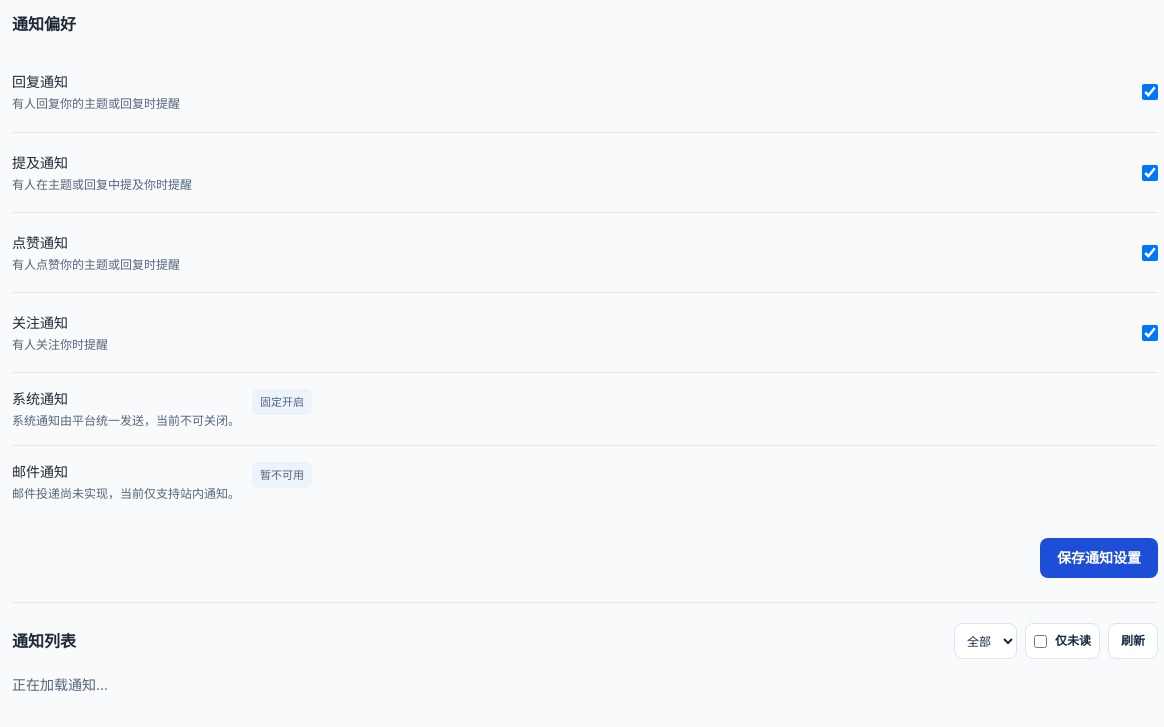
SettingsNotificationsTab › keeps the newest notification result when an older response arrives later
Click the button "刷新".
click(1133, 641)  # box [1108,623,1158,659]
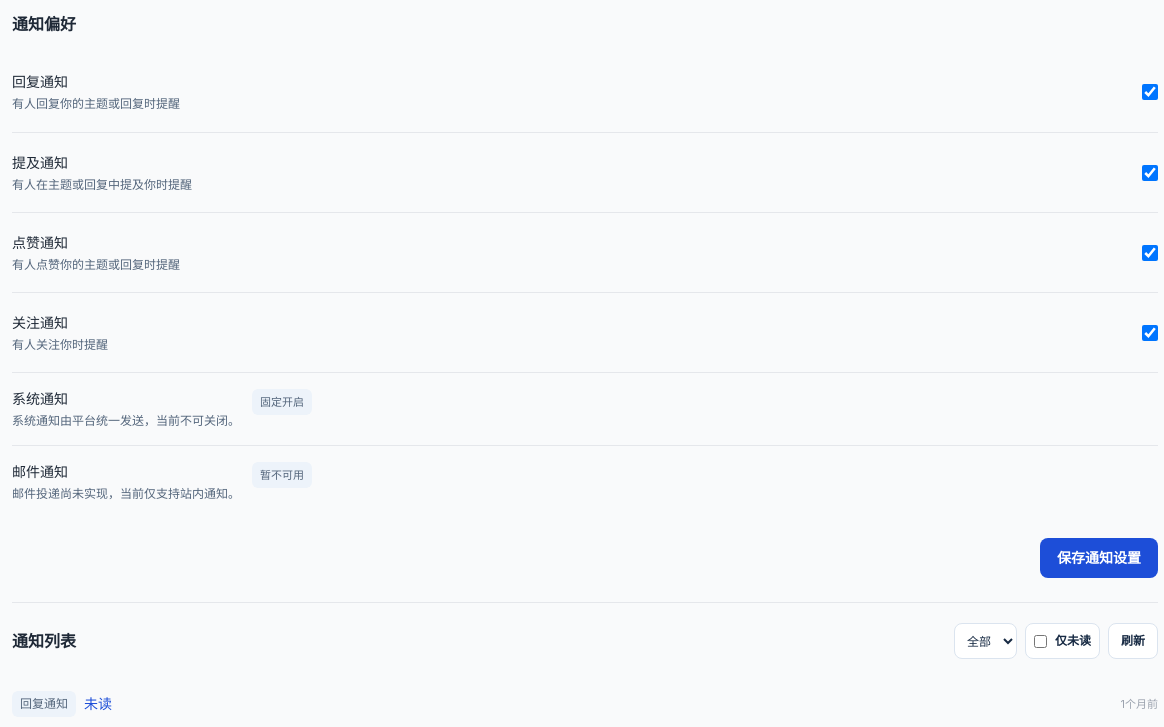
Now the text "正在加载通知..." is gone
